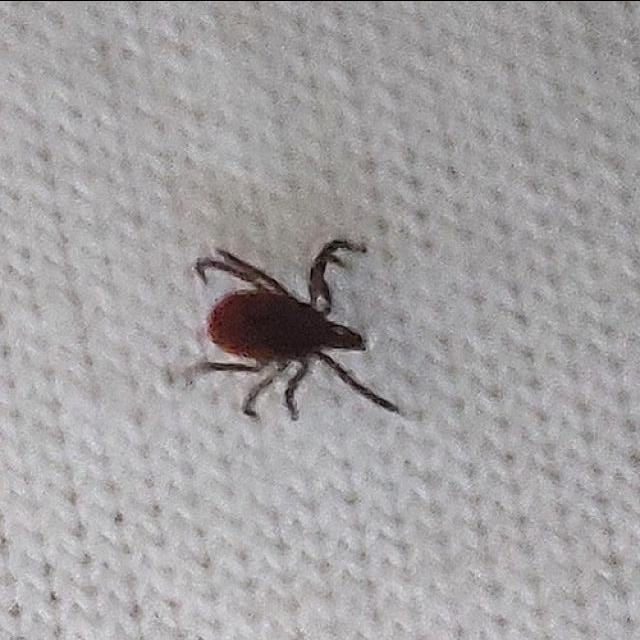Ixodes Ricinus-F: (182, 239, 399, 421)
